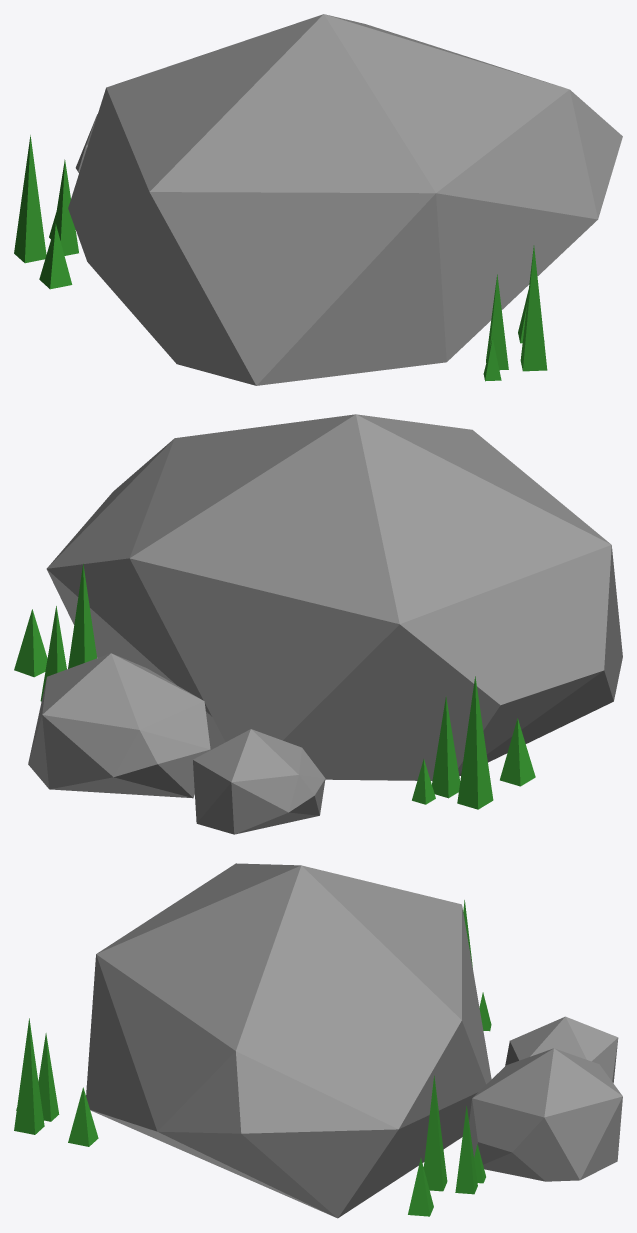
Rendered from LargeStoneWithGrass.FBX.
3 views of the same model, one above another, from view 1: azimuth 30°, elevation 25°; view 2: azimuth 150°, elevation 25°; view 3: azimuth 270°, elevation 25° (orthographic). The views are drawn at different scales.
Visible parts, largest first — view 1: Rock, Grass010, Grass008; view 2: Rock, Rock001, Rock002, Grass010, Grass009; view 3: Rock, Rock001, Grass008, Grass009, Rock002.
Part boxes in pixels (x1,y1,x2,y2): Rock: (68,14,622,385); Grass010: (14,135,78,289); Grass008: (483,245,547,381); Rock: (46,414,622,780); Rock001: (28,653,210,798); Rock002: (193,729,325,834); Grass010: (412,676,535,809); Grass009: (14,564,96,701); Rock: (86,863,491,1218); Rock001: (469,1048,622,1181); Grass008: (14,1018,98,1146); Grass009: (408,1075,485,1216); Rock002: (505,1016,618,1082).
Bounding box in the file's own units: 51.28 × 26.84 × 58.66.
